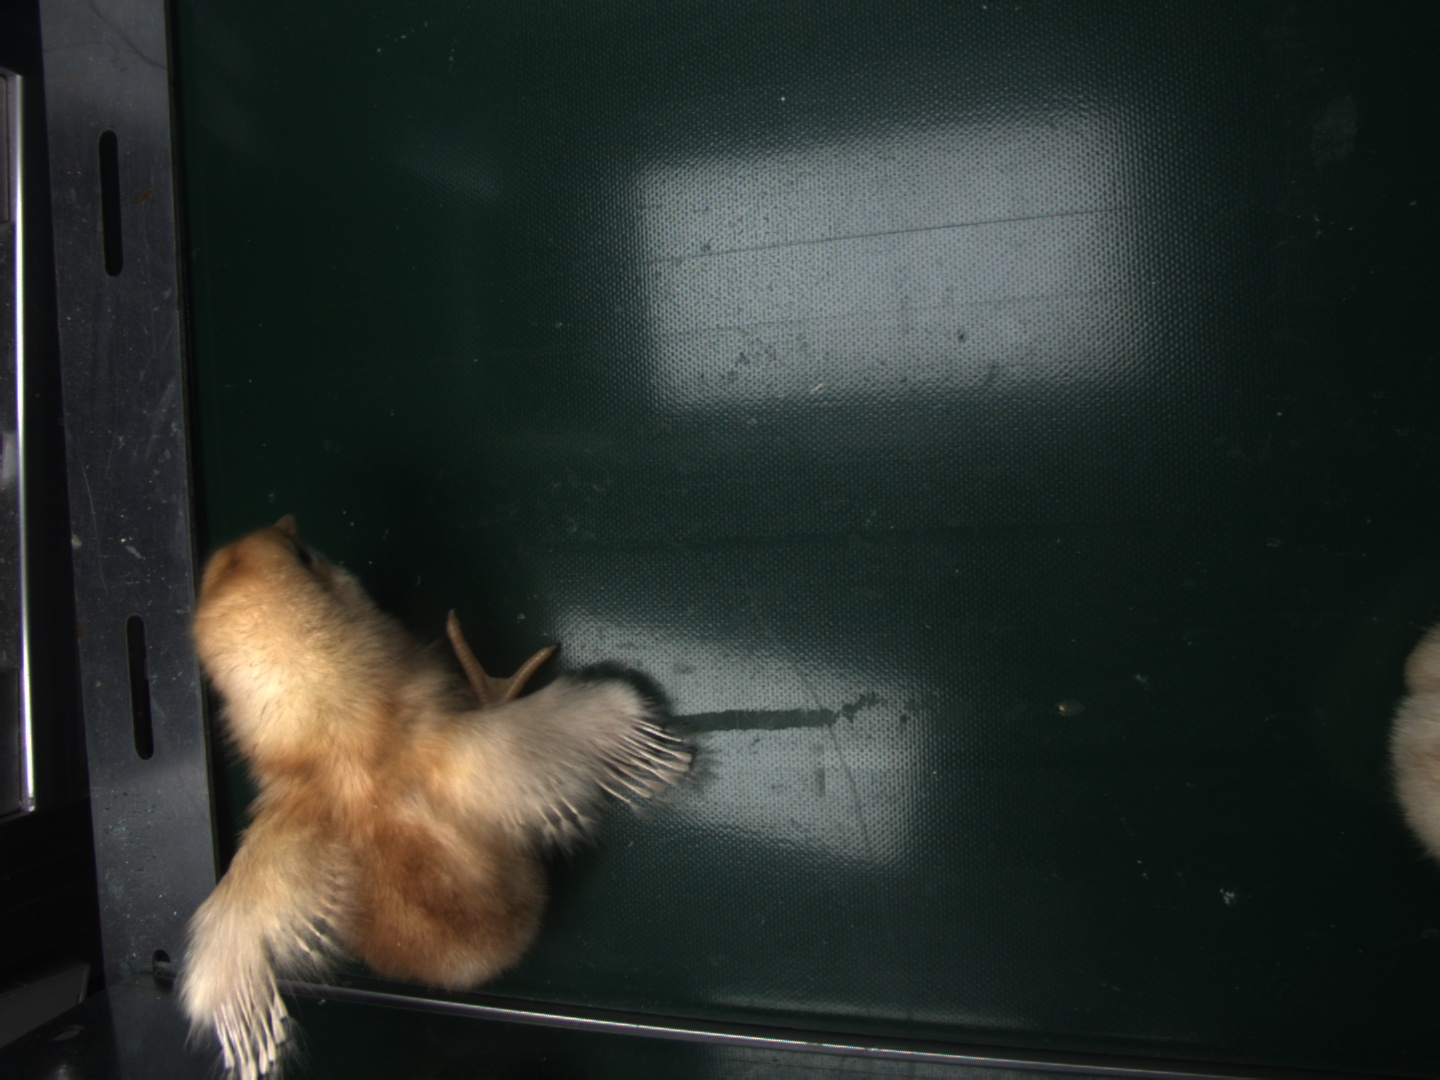female: (598, 715, 691, 801), (215, 974, 286, 1075)
